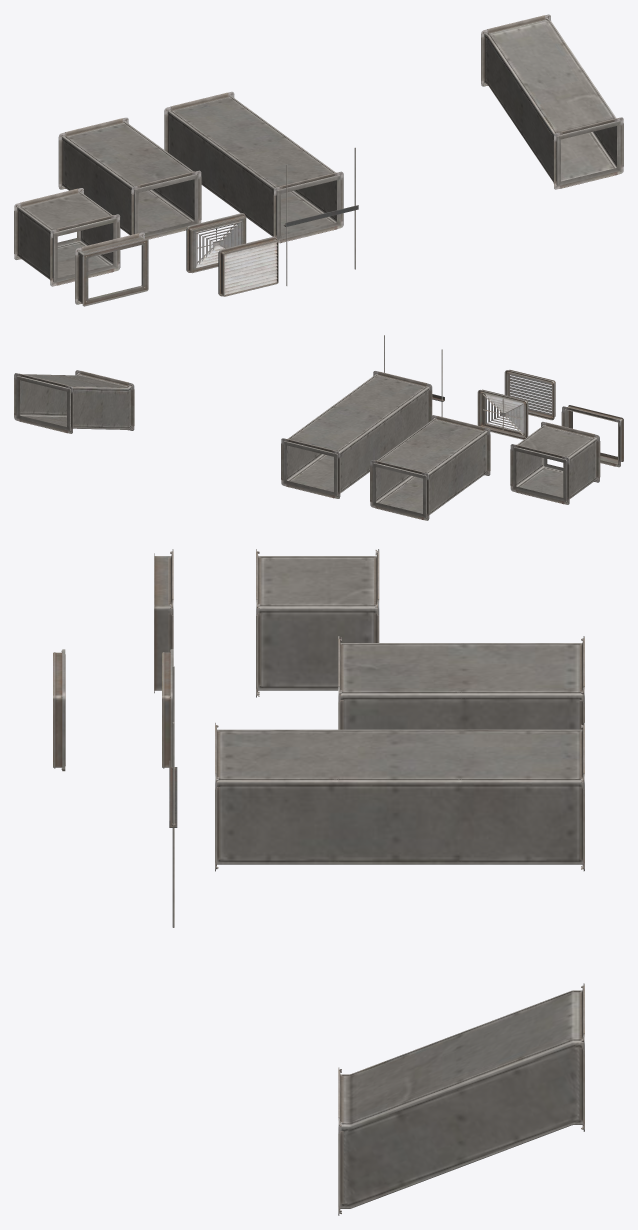
File: modular_airduct_rectangular_01.glb
The picture shows the model from 3 angles, top to bottom: view 1: azimuth 30°, elevation 25°; view 2: azimuth 150°, elevation 25°; view 3: azimuth 270°, elevation 25°; orthographic projection. The views are drawn at different scales.
Parts seen in each view (by area): view 1: modular_airduct_rectangular_01_tripple_01, modular_airduct_rectangular_01_transition_double_01, modular_airduct_rectangular_01_double_01, modular_airduct_rectangular_01_single_01, modular_airduct_rectangular_01_vent_01, modular_airduct_rectangular_01_connector_01, modular_airduct_rectangular_01_vent_02, modular_airduct_rectangular_01_brace_wire_01; view 2: modular_airduct_rectangular_01_tripple_01, modular_airduct_rectangular_01_double_01, modular_airduct_rectangular_01_transition_double_01, modular_airduct_rectangular_01_single_01, modular_airduct_rectangular_01_vent_02, modular_airduct_rectangular_01_vent_01, modular_airduct_rectangular_01_connector_01; view 3: modular_airduct_rectangular_01_tripple_01, modular_airduct_rectangular_01_transition_double_01, modular_airduct_rectangular_01_double_01, modular_airduct_rectangular_01_single_01, modular_airduct_rectangular_01_connector_01, modular_airduct_rectangular_01_vent_01, modular_airduct_rectangular_01_vent_02.
Part boxes in pixels (x1,y1,x2,y2): modular_airduct_rectangular_01_tripple_01: (164,91,343,243); modular_airduct_rectangular_01_transition_double_01: (481,14,623,189); modular_airduct_rectangular_01_double_01: (58,117,201,239); modular_airduct_rectangular_01_single_01: (14,188,120,286); modular_airduct_rectangular_01_vent_01: (218,236,278,296); modular_airduct_rectangular_01_connector_01: (75,232,148,306); modular_airduct_rectangular_01_vent_02: (186,213,246,273); modular_airduct_rectangular_01_brace_wire_01: (286,147,355,285); modular_airduct_rectangular_01_tripple_01: (281,371,432,498); modular_airduct_rectangular_01_double_01: (370,415,490,520); modular_airduct_rectangular_01_transition_double_01: (14,370,134,433); modular_airduct_rectangular_01_single_01: (510,421,600,504); modular_airduct_rectangular_01_vent_02: (477,389,528,439); modular_airduct_rectangular_01_vent_01: (504,369,555,420); modular_airduct_rectangular_01_connector_01: (561,405,623,467); modular_airduct_rectangular_01_tripple_01: (215,722,584,871); modular_airduct_rectangular_01_transition_double_01: (338,983,584,1215); modular_airduct_rectangular_01_double_01: (338,636,584,729); modular_airduct_rectangular_01_single_01: (256,549,379,697); modular_airduct_rectangular_01_connector_01: (154,549,173,693); modular_airduct_rectangular_01_vent_01: (53,649,65,771); modular_airduct_rectangular_01_vent_02: (162,649,173,768).
Size of the model in its own units: 5.66 by 1.26 by 2.59.
2 materials, 2 textured.
